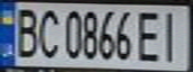0: (60, 6, 81, 60)
6: (115, 7, 139, 61), (97, 7, 118, 61)
8: (78, 7, 100, 61)
B: (9, 3, 42, 59)
C: (33, 6, 63, 60)
E: (136, 7, 166, 63)
I: (157, 8, 187, 63)
